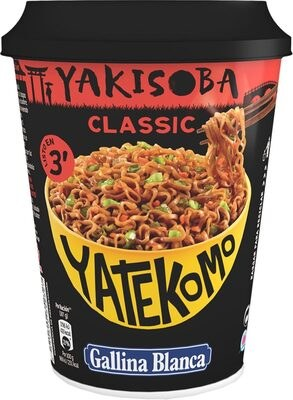Yakisoba classic: (15, 20, 278, 380)
